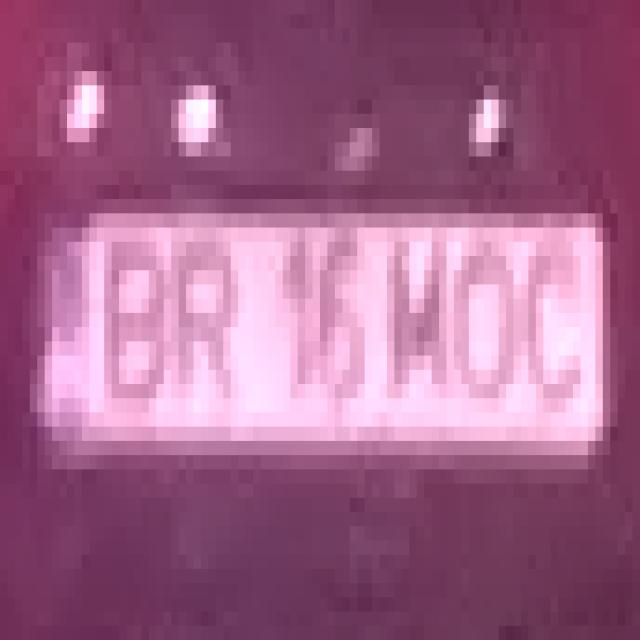Autre: (27, 216, 613, 462)
